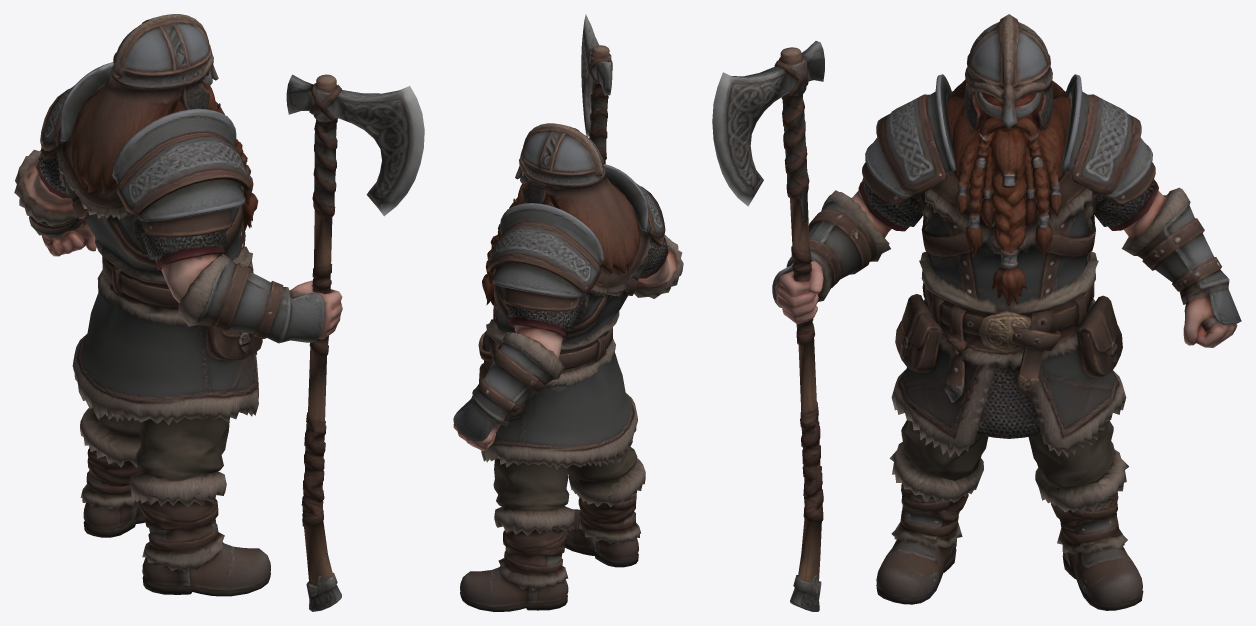
3 views of the same model, side by side, from view 1: azimuth 30°, elevation 25°; view 2: azimuth 150°, elevation 25°; view 3: azimuth 270°, elevation 25° (orthographic). The views are drawn at different scales.
Parts seen in each view (by area): view 1: tripo_node_2dc289ef-8bc8-4c26-9df4-24c9d94d6069; view 2: tripo_node_2dc289ef-8bc8-4c26-9df4-24c9d94d6069; view 3: tripo_node_2dc289ef-8bc8-4c26-9df4-24c9d94d6069.
Part boxes in pixels (<box>): tripo_node_2dc289ef-8bc8-4c26-9df4-24c9d94d6069: <box>14,14,424,611</box>; tripo_node_2dc289ef-8bc8-4c26-9df4-24c9d94d6069: <box>453,14,683,611</box>; tripo_node_2dc289ef-8bc8-4c26-9df4-24c9d94d6069: <box>712,14,1241,611</box>.
Bounding box in the file's own units: 0.3843 × 0.9995 × 0.8491.
Materials: 1 (1 with a texture image).
